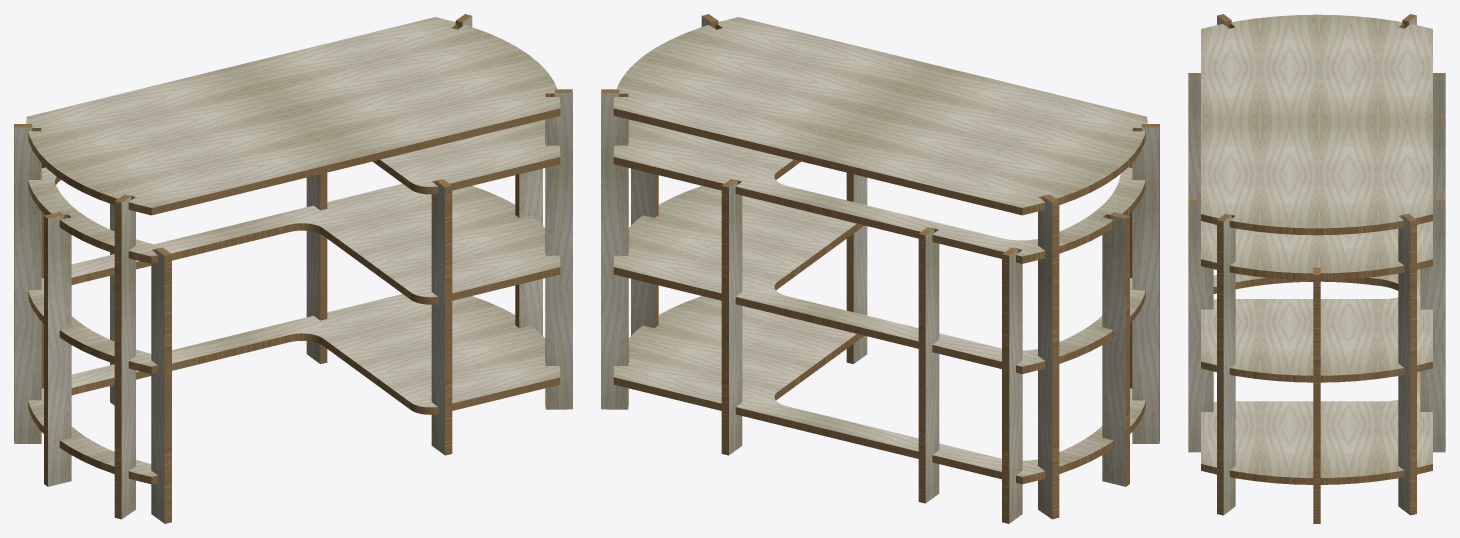
Rendered from NODO_ESCRITORIO_KIRI_V2.glb.
3 renders of one model, left to right at view 1: azimuth 30°, elevation 25°; view 2: azimuth 150°, elevation 25°; view 3: azimuth 270°, elevation 25°, orthographic. The views are drawn at different scales.
Visible parts, largest first — view 1: Tapa, Estante_inferior_2, Estante_inferior_1, Estante_inferior_3, Lateral_izquierdo_atras, Lateral_derecho_frente, Montante_corto_extremo_izquierdo, Lateral_izquierdo_frente, Montante_bajo_2, Montante_bajo_1, Montante_bajo_5, Montante_corto_extremo_derecho; view 2: Tapa, Estante_inferior_1, Estante_inferior_2, Estante_inferior_3, Lateral_izquierdo_frente, Lateral_derecho_atras, Montante_corto_extremo_izquierdo, Lateral_izquierdo_atras, Montante_bajo_5, Montante_bajo_4, Montante_bajo_3, Montante_bajo_2 (+1 smaller); view 3: Tapa, Estante_inferior_1, Estante_inferior_2, Estante_inferior_3, Lateral_derecho_frente, Lateral_derecho_atras, Montante_bajo_2, Montante_bajo_5, Montante_corto_extremo_derecho, Montante_bajo_1, Montante_bajo_4, Montante_bajo_3.
Part boxes in pixels (box(x1,y1,x2,y2)): Tapa: box(26, 17, 560, 215); Estante_inferior_2: box(28, 183, 560, 373); Estante_inferior_1: box(28, 294, 560, 484); Estante_inferior_3: box(28, 119, 560, 263); Lateral_izquierdo_atras: box(14, 124, 41, 443); Lateral_derecho_frente: box(545, 89, 572, 409); Montante_corto_extremo_izquierdo: box(44, 212, 71, 486); Lateral_izquierdo_frente: box(114, 194, 135, 519); Montante_bajo_2: box(431, 179, 452, 455); Montante_bajo_1: box(151, 247, 171, 523); Montante_bajo_5: box(306, 172, 327, 363); Montante_corto_extremo_derecho: box(515, 168, 542, 335); Tapa: box(613, 17, 1147, 215); Estante_inferior_1: box(613, 296, 1145, 484); Estante_inferior_2: box(613, 186, 1145, 373); Estante_inferior_3: box(613, 119, 1145, 263); Lateral_izquierdo_frente: box(1132, 124, 1159, 443); Lateral_derecho_atras: box(601, 89, 628, 409); Montante_corto_extremo_izquierdo: box(1102, 212, 1129, 486); Lateral_izquierdo_atras: box(1038, 194, 1059, 519); Montante_bajo_5: box(721, 179, 742, 455); Montante_bajo_4: box(918, 227, 939, 503); Montante_bajo_3: box(1002, 247, 1022, 523); Montante_bajo_2: box(846, 172, 867, 363); Tapa: box(1201, 14, 1432, 235); Estante_inferior_1: box(1201, 273, 1432, 484); Estante_inferior_2: box(1201, 269, 1432, 382); Estante_inferior_3: box(1201, 221, 1432, 280); Lateral_derecho_frente: box(1217, 213, 1235, 515); Lateral_derecho_atras: box(1398, 213, 1416, 515); Montante_bajo_2: box(1188, 200, 1213, 452); Montante_bajo_5: box(1420, 200, 1445, 452); Montante_corto_extremo_derecho: box(1313, 268, 1320, 523); Montante_bajo_1: box(1188, 73, 1200, 200); Montante_bajo_4: box(1433, 111, 1445, 200); Montante_bajo_3: box(1433, 73, 1445, 110).
Bounding box in the file's own units: 1.26 × 0.77 × 0.61.
2 materials, 2 textured.
